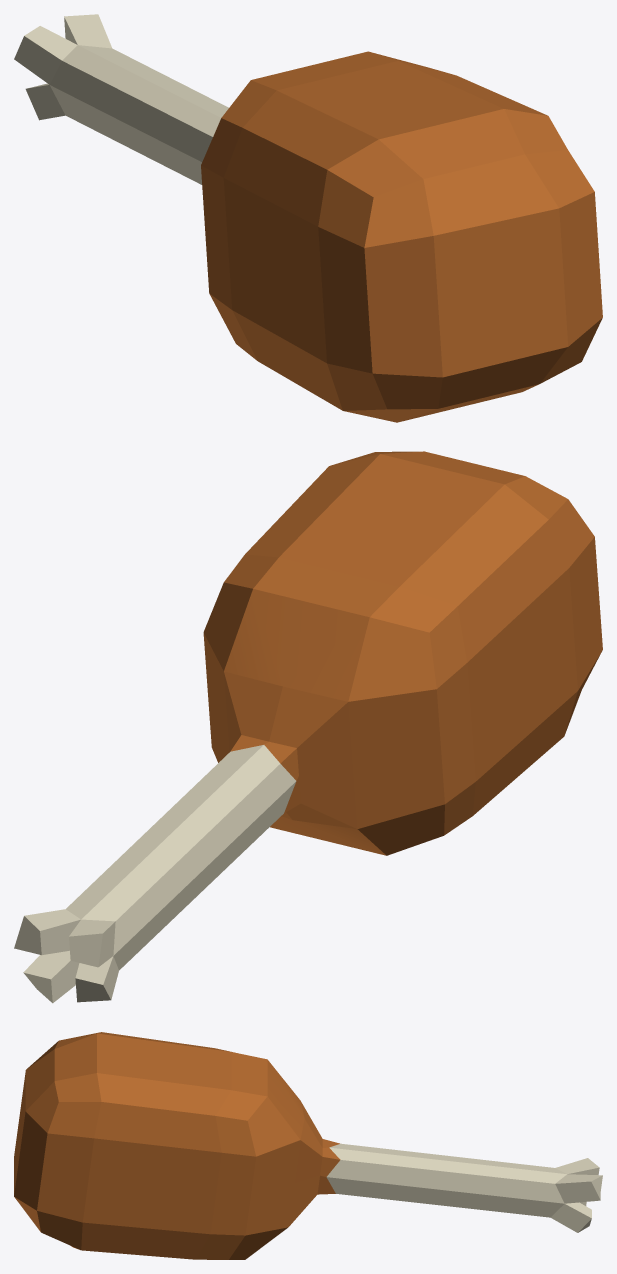
Rendered from BBQChicken.fbx.
The picture shows the model from 3 angles, top to bottom: view 1: azimuth 30°, elevation 25°; view 2: azimuth 150°, elevation 25°; view 3: azimuth 270°, elevation 25°; orthographic projection. The views are drawn at different scales.
Parts seen in each view (by area): view 1: BBQChicken; view 2: BBQChicken; view 3: BBQChicken.
Boxes of the visible parts, x1,y1,x2,y2 form: BBQChicken: [14, 14, 602, 422]; BBQChicken: [14, 451, 602, 1003]; BBQChicken: [14, 1032, 602, 1259].
Size of the model in its own units: 0.1456 by 0.1614 by 0.4579.
Materials: 1 (1 with a texture image).
